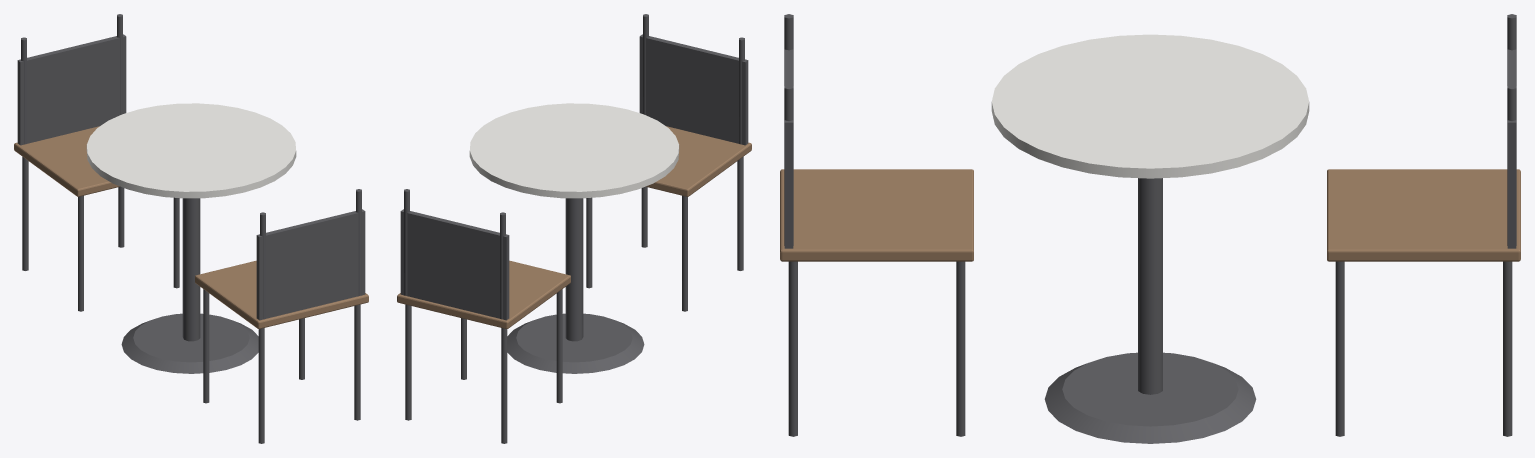
The model's file is cafe_table.glb.
The picture shows the model from 3 angles, left to right: view 1: azimuth 30°, elevation 25°; view 2: azimuth 150°, elevation 25°; view 3: azimuth 270°, elevation 25°; orthographic projection. The views are drawn at different scales.
Visible parts, largest first — view 1: Top, Frame_0, Frame_1, Pedestal, Seat_1, Seat_0; view 2: Top, Frame_1, Frame_0, Pedestal, Seat_0, Seat_1; view 3: Top, Pedestal, Seat_0, Seat_1, Frame_0, Frame_1.
Boxes of the visible parts, left/top/right/bottom form: Top: left=86, top=103, right=296, bottom=198; Frame_0: left=203, top=189, right=365, bottom=443; Frame_1: left=17, top=14, right=179, bottom=311; Pedestal: left=121, top=198, right=258, bottom=373; Seat_1: left=14, top=126, right=119, bottom=196; Seat_0: left=195, top=260, right=368, bottom=328; Top: left=469, top=103, right=679, bottom=198; Frame_1: left=400, top=189, right=562, bottom=443; Frame_0: left=586, top=14, right=748, bottom=311; Pedestal: left=507, top=198, right=644, bottom=373; Seat_0: left=646, top=126, right=751, bottom=196; Seat_1: left=397, top=260, right=570, bottom=328; Top: left=991, top=34, right=1309, bottom=178; Pedestal: left=1044, top=178, right=1256, bottom=443; Seat_0: left=780, top=169, right=973, bottom=261; Seat_1: left=1327, top=169, right=1520, bottom=261; Frame_0: left=784, top=14, right=965, bottom=436; Frame_1: left=1335, top=14, right=1516, bottom=436.
Bounding box in the file's own units: 0.72 × 0.87 × 1.68.
